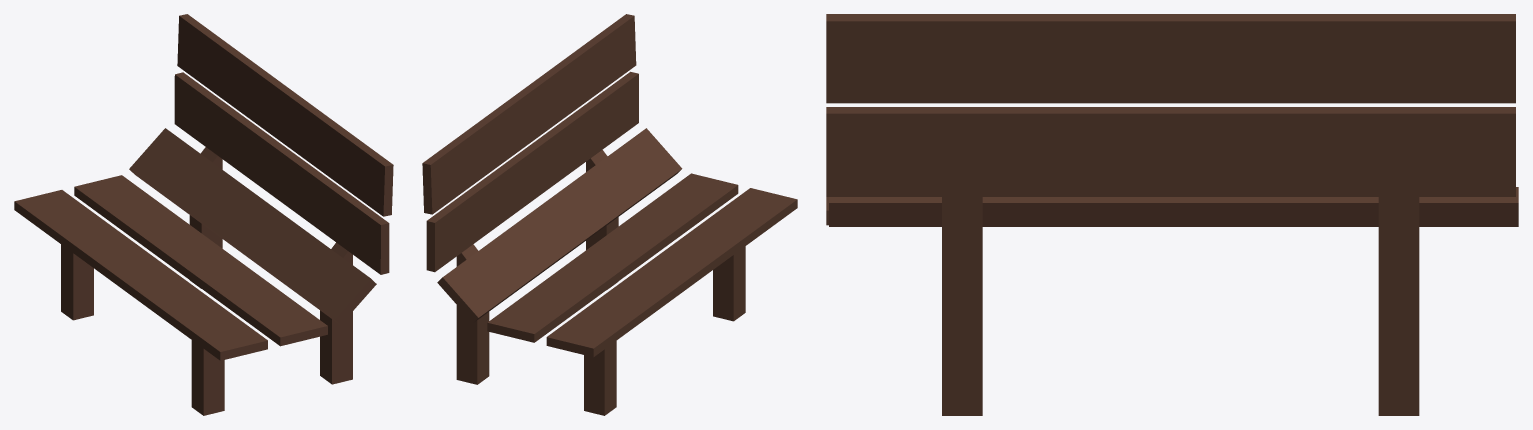
The model's file is park chair.fbx.
3 views of the same model, side by side, from view 1: azimuth 30°, elevation 25°; view 2: azimuth 150°, elevation 25°; view 3: azimuth 270°, elevation 25° (orthographic). The views are drawn at different scales.
Visible parts, largest first — view 1: Cube.038; view 2: Cube.038; view 3: Cube.038.
Boxes of the visible parts, x1,y1,x2,y2 form: Cube.038: (14,14,393,415); Cube.038: (422,14,797,415); Cube.038: (826,14,1518,415).
Size of the model in its own units: 1.96 by 2.59 by 4.06.
